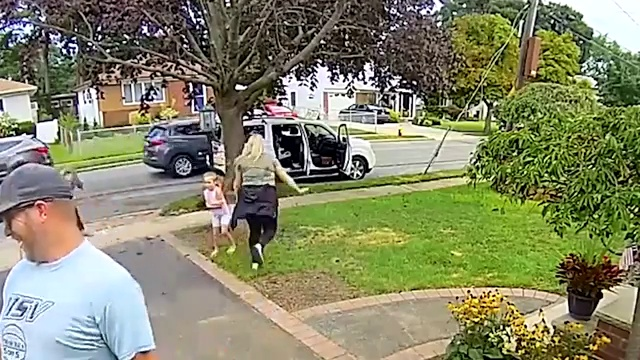face: (1, 199, 50, 265), (204, 177, 214, 190)
